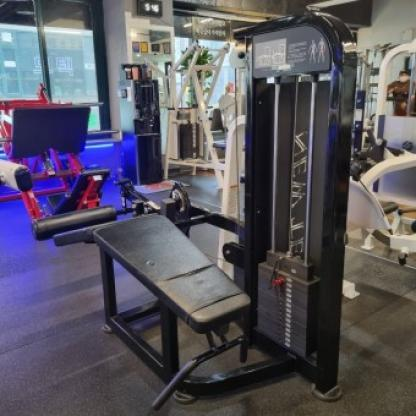reg curl machine: (32, 11, 359, 416)
